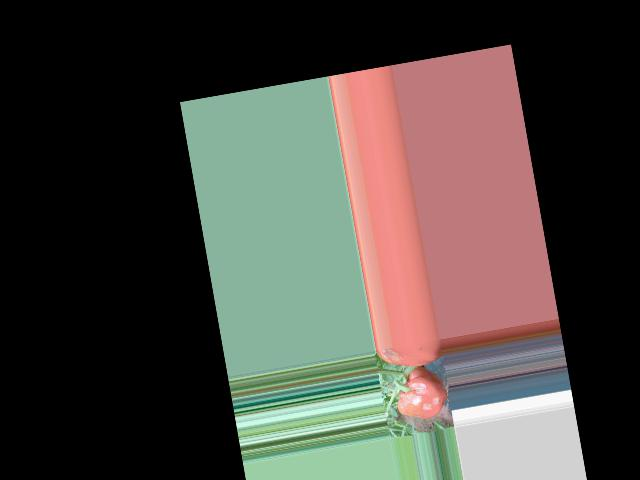bell_pepper: (387, 363, 452, 421)
